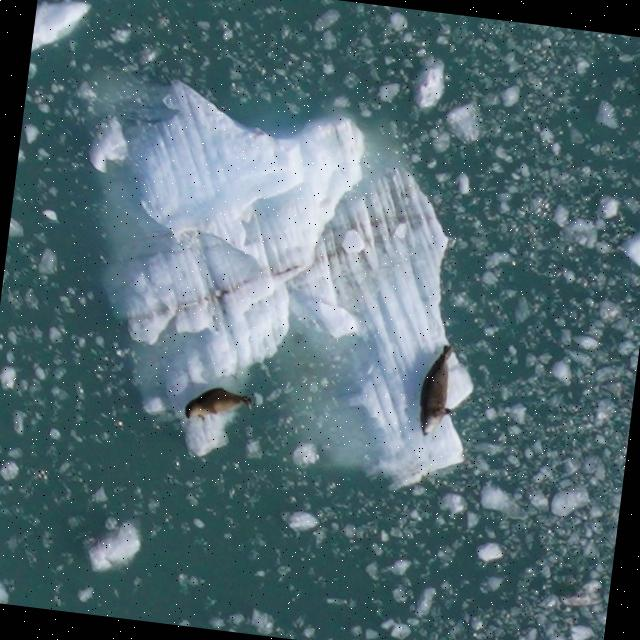seal: (411, 339, 460, 443), (181, 381, 257, 432)
